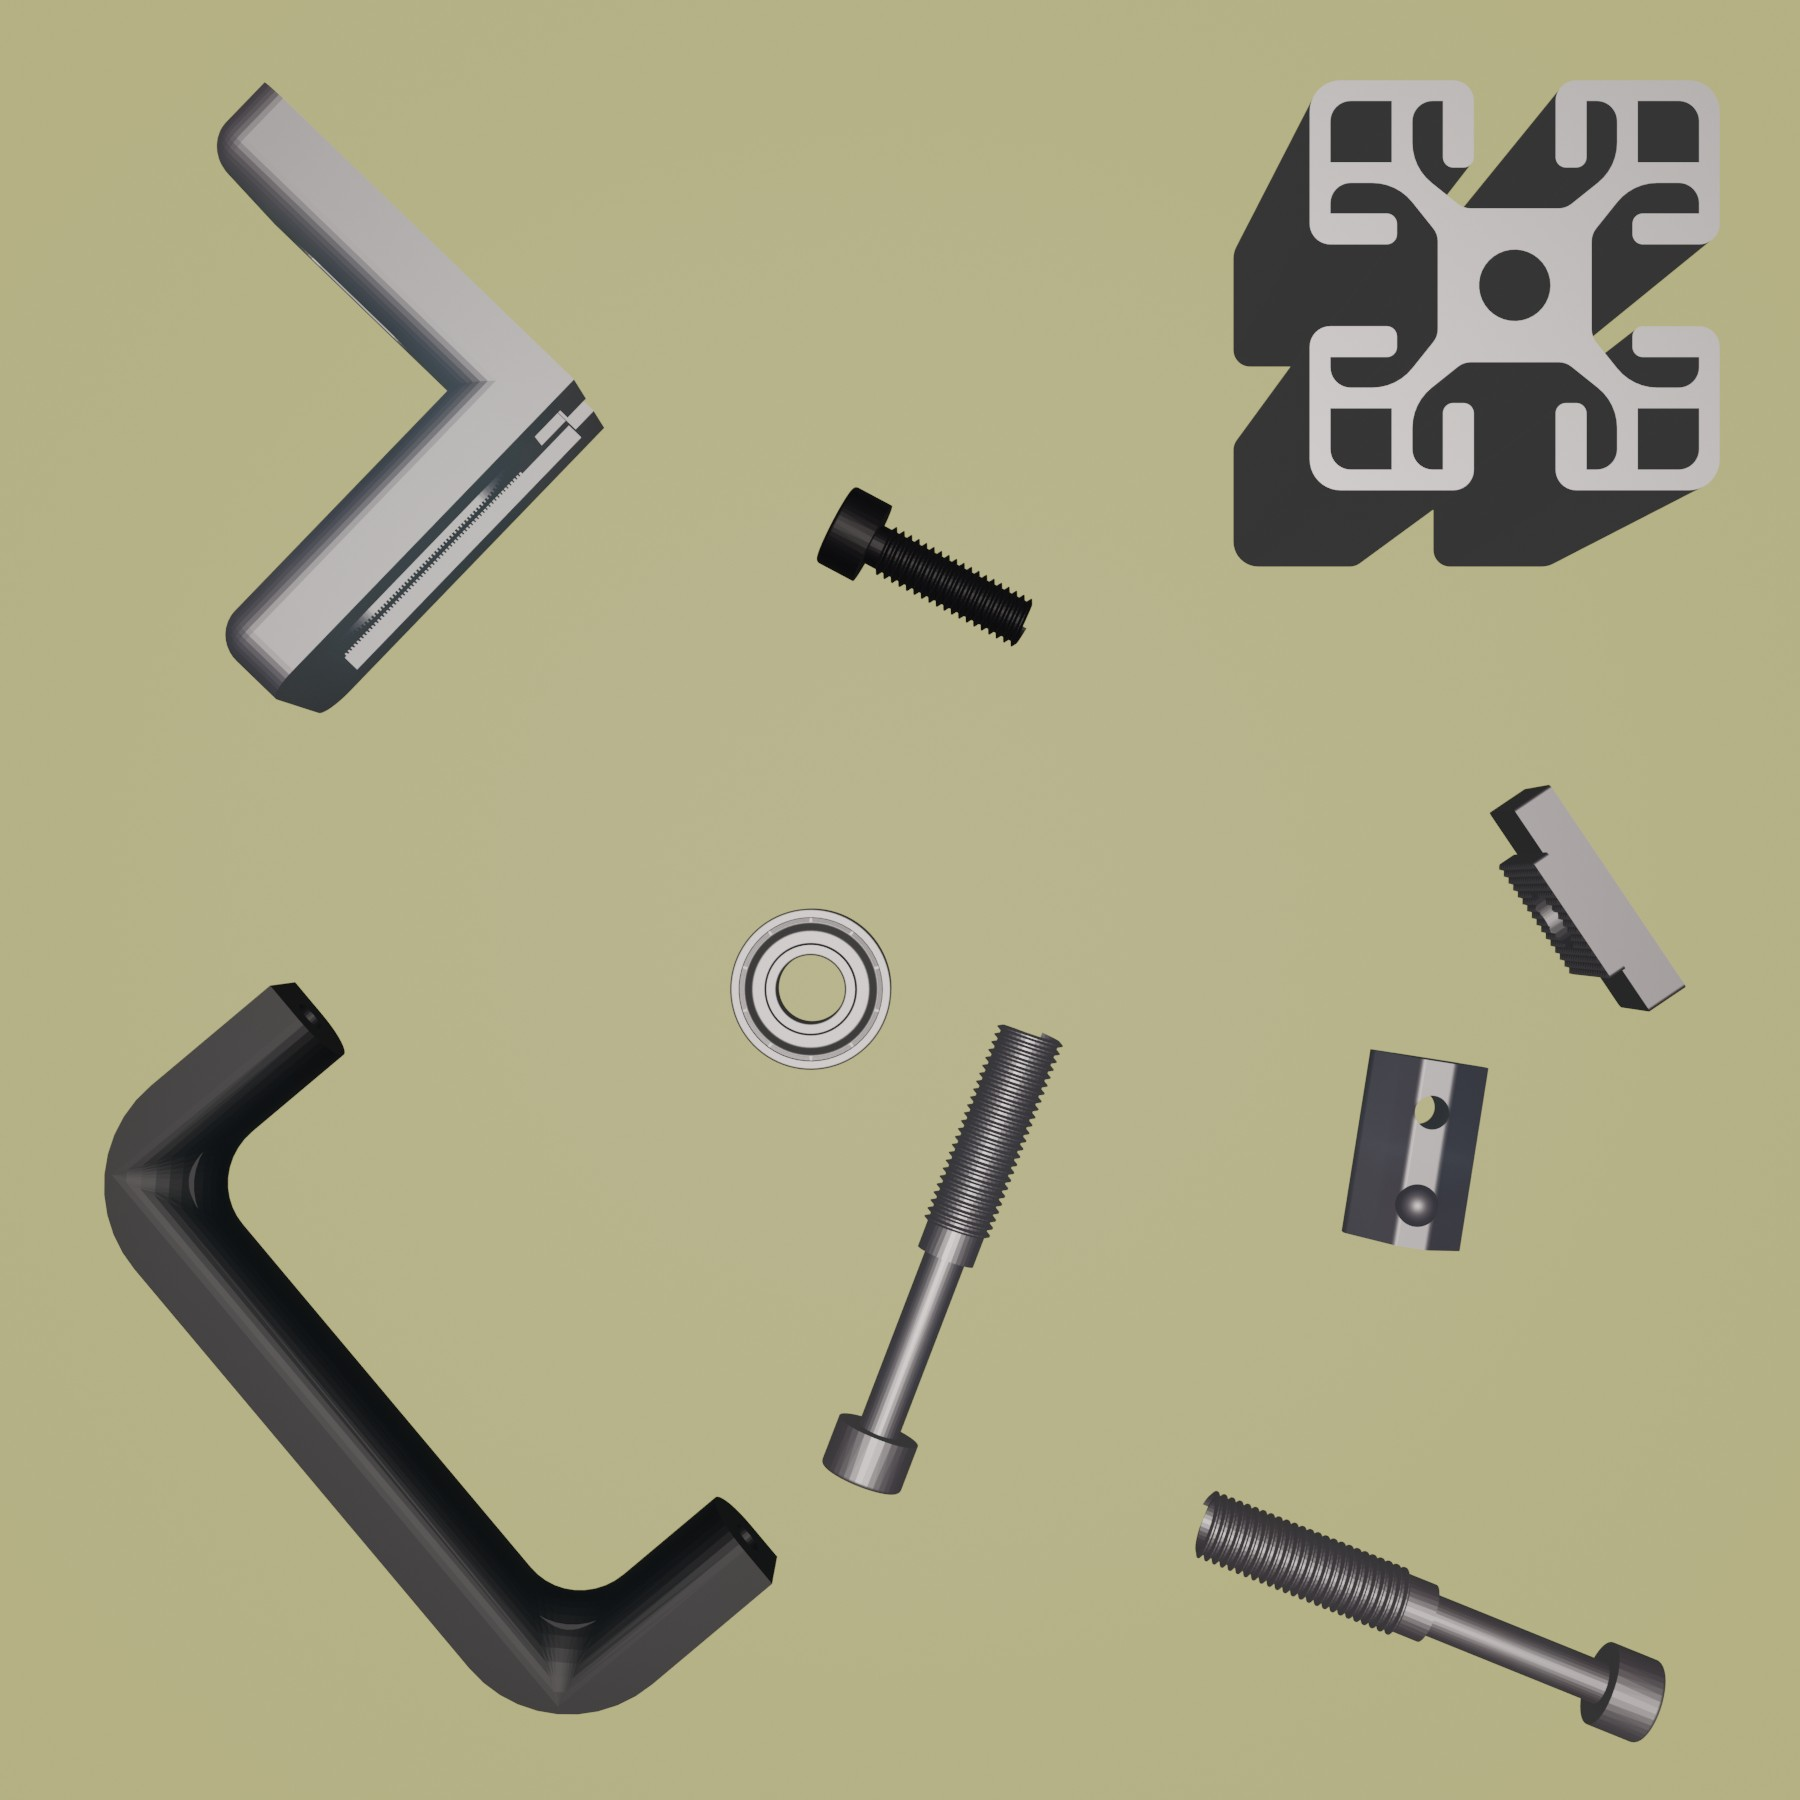Aluminium Extension: (1231, 73, 1729, 572)
Ball Bearing: (730, 903, 893, 1071)
Multiwinkel: (213, 81, 607, 712)
Pull Handle: (101, 974, 778, 1718)
Shoulder Socket Head Cap Screw: (1193, 1488, 1666, 1742), (816, 1022, 1066, 1497)
Socket Head Cap Screw: (813, 481, 1034, 649)
T Nut Square: (1487, 781, 1690, 1015)
T Spring Nut: (1335, 1043, 1492, 1254)
